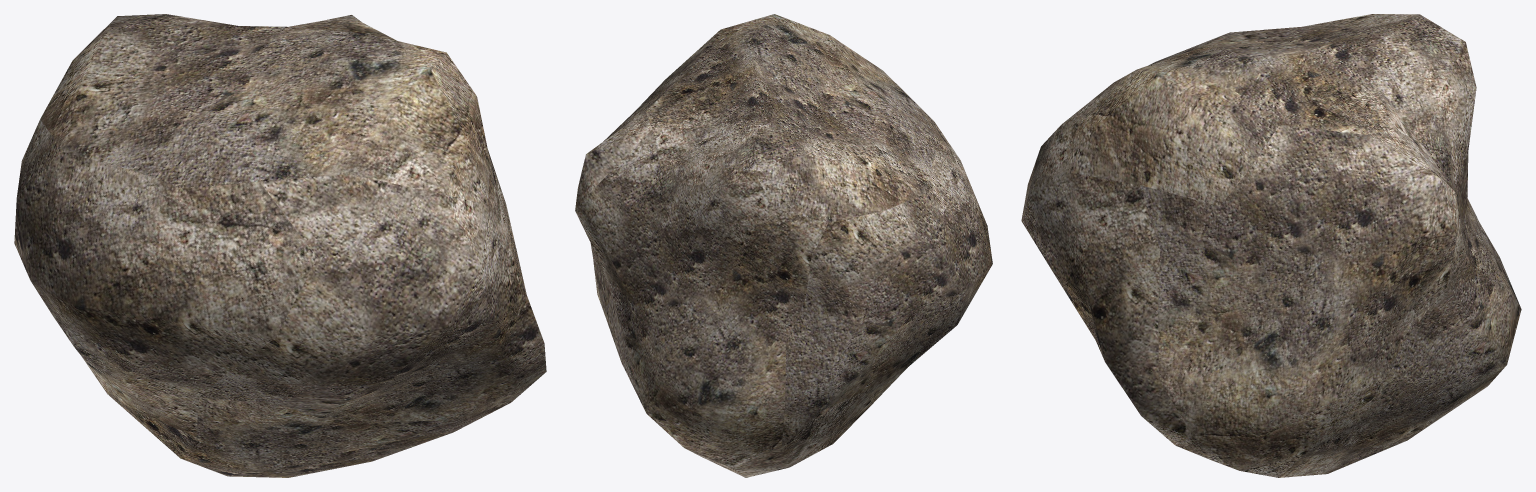
File: ast_upg_01.FBX
3 renders of one model, left to right at view 1: azimuth 30°, elevation 25°; view 2: azimuth 150°, elevation 25°; view 3: azimuth 270°, elevation 25°, orthographic. The views are drawn at different scales.
Parts seen in each view (by area): view 1: ast_upg_01; view 2: ast_upg_01; view 3: ast_upg_01.
Boxes of the visible parts, box(x1,y1,x2,y2) form: ast_upg_01: box(14, 14, 546, 477); ast_upg_01: box(575, 14, 992, 477); ast_upg_01: box(1021, 14, 1521, 477).
Size of the model in its own units: 81.5 by 80.27 by 85.25.
